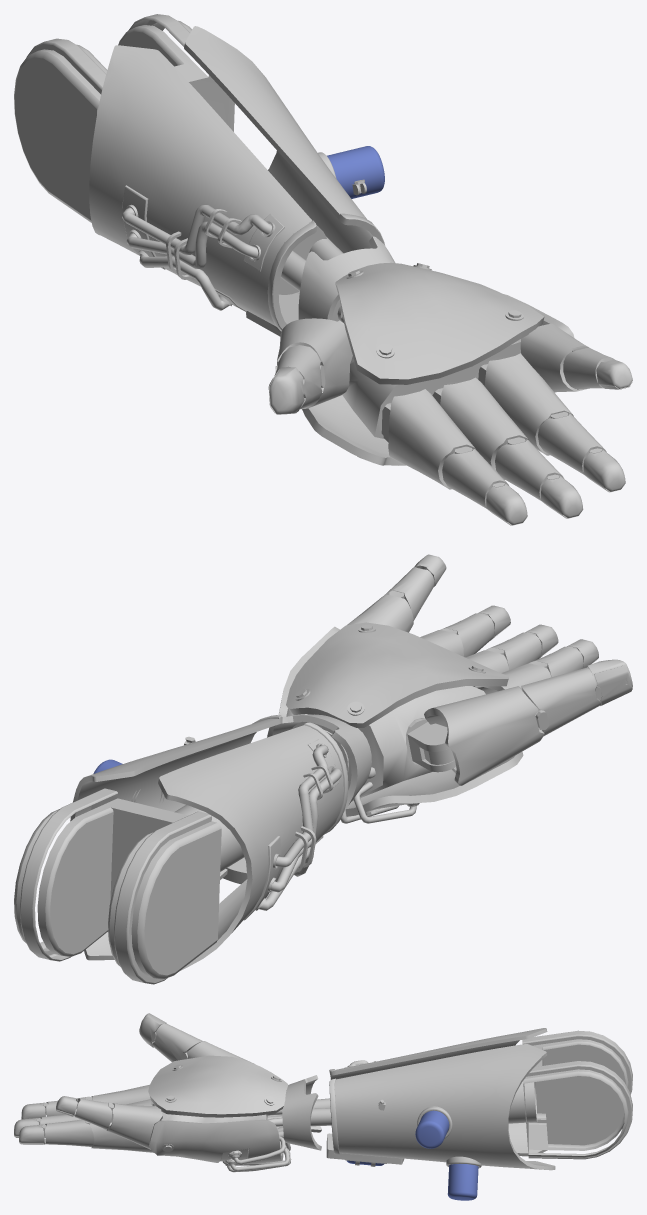
File: brazo.obj
3 views of the same model, one above another, from view 1: azimuth 30°, elevation 25°; view 2: azimuth 150°, elevation 25°; view 3: azimuth 270°, elevation 25° (orthographic). The views are drawn at different scales.
Parts seen in each view (by area): view 1: Cube.107_Material.004, hand.002_Material.004, Cube.106_Material.004, Cube.126_Material.004, Cube.139_Material.004, Cube.134_Material.004, Cube.010_Piece.003_Material.004, HandRef_Piece_Piece.003_Material.004, Cube.131_Material.004, Cube.145_Material.004, Cube.135_Material.004, Cube.140_Material.004 (+13 smaller); view 2: Cube.106_Material.004, Cube.107_Material.004, hand.002_Material.004, Cube.131_Material.004, HandRef_Piece_Piece.003_Material.004, Cube.132_Material.004, Cube.010_Piece.003_Material.004, Cube.118_Material.004, Cube.145_Material.004, Vert.006_Curve.002_Material.004, Cube.034_Piece.011_Material.004, Cube.140_Material.004 (+8 smaller); view 3: Cube.107_Material.004, hand.002_Material.004, Cube.106_Material.004, Cube.010_Piece.003_Material.004, Cube.145_Material.004, Cube.140_Material.004, Cube.132_Material.004, Cylinder.116_glass.001, Cylinder.117_glass.001, Cylinder.093_Material.004, Cube.139_Material.004, Cube.146_Material.004 (+11 smaller).
Part boxes in pixels (x1,y1,x2,y2): Cube.107_Material.004: (89, 26, 384, 331); hand.002_Material.004: (302, 262, 574, 465); Cube.106_Material.004: (14, 14, 234, 222); Cube.126_Material.004: (388, 389, 475, 489); Cube.139_Material.004: (484, 353, 573, 455); Cube.134_Material.004: (440, 377, 528, 479); Cube.010_Piece.003_Material.004: (298, 236, 395, 319); HandRef_Piece_Piece.003_Material.004: (342, 325, 542, 438); Cube.131_Material.004: (277, 318, 352, 409); Cube.145_Material.004: (520, 323, 588, 392); Cube.135_Material.004: (495, 439, 563, 501); Cube.140_Material.004: (538, 413, 606, 475); Cube.106_Material.004: (14, 788, 221, 984); Cube.107_Material.004: (70, 715, 348, 970); hand.002_Material.004: (278, 622, 523, 816); Cube.131_Material.004: (424, 686, 544, 785); HandRef_Piece_Piece.003_Material.004: (307, 686, 485, 801); Cube.132_Material.004: (521, 667, 600, 736); Cube.010_Piece.003_Material.004: (267, 714, 371, 811); Cube.118_Material.004: (407, 722, 455, 772); Cube.145_Material.004: (347, 594, 413, 632); Vert.006_Curve.002_Material.004: (275, 744, 328, 867); Cube.034_Piece.011_Material.004: (587, 659, 632, 705); Cube.140_Material.004: (440, 613, 494, 657); Cube.107_Material.004: (329, 1028, 555, 1170); hand.002_Material.004: (148, 1055, 288, 1164); Cube.106_Material.004: (522, 1030, 632, 1159); Cube.010_Piece.003_Material.004: (282, 1075, 321, 1150); Cube.145_Material.004: (106, 1103, 162, 1149); Cube.140_Material.004: (45, 1119, 94, 1146); Cube.132_Material.004: (152, 1023, 202, 1061); Cylinder.116_glass.001: (447, 1163, 478, 1200); Cylinder.117_glass.001: (415, 1110, 449, 1148); Cylinder.093_Material.004: (508, 1081, 537, 1123); Cube.139_Material.004: (90, 1105, 155, 1152); Cube.146_Material.004: (74, 1098, 111, 1129).
Bounding box in the file's own units: 0.5292 × 0.3393 × 1.35.
